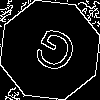G: (25, 25, 81, 84)
